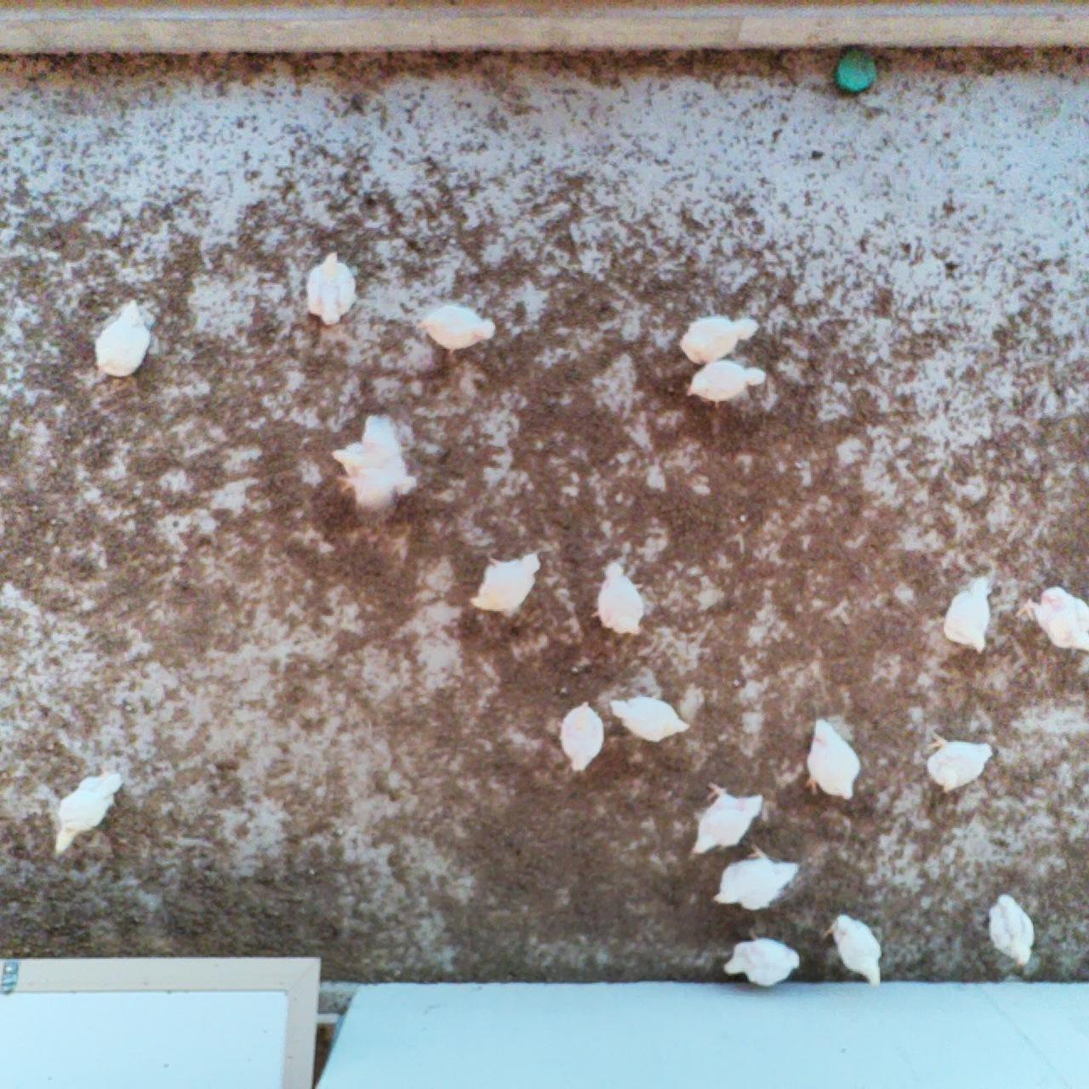chicken: (325, 407, 420, 521), (49, 760, 131, 864), (680, 774, 767, 862), (711, 842, 804, 915), (465, 545, 548, 621), (797, 714, 866, 805), (936, 574, 1006, 661), (922, 723, 1001, 800), (718, 924, 807, 992), (90, 294, 155, 385), (1013, 585, 1089, 659), (820, 908, 891, 986), (587, 555, 649, 643), (677, 308, 763, 369), (414, 298, 501, 356), (680, 356, 768, 413), (606, 690, 694, 746), (300, 246, 360, 328), (981, 885, 1037, 971), (557, 698, 611, 777)
